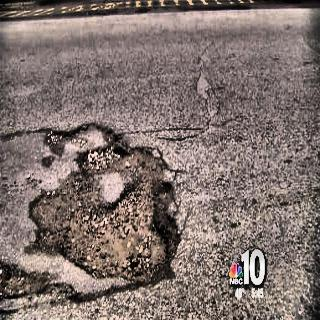crack: (2, 119, 118, 144)
pothole: (29, 141, 179, 284)
